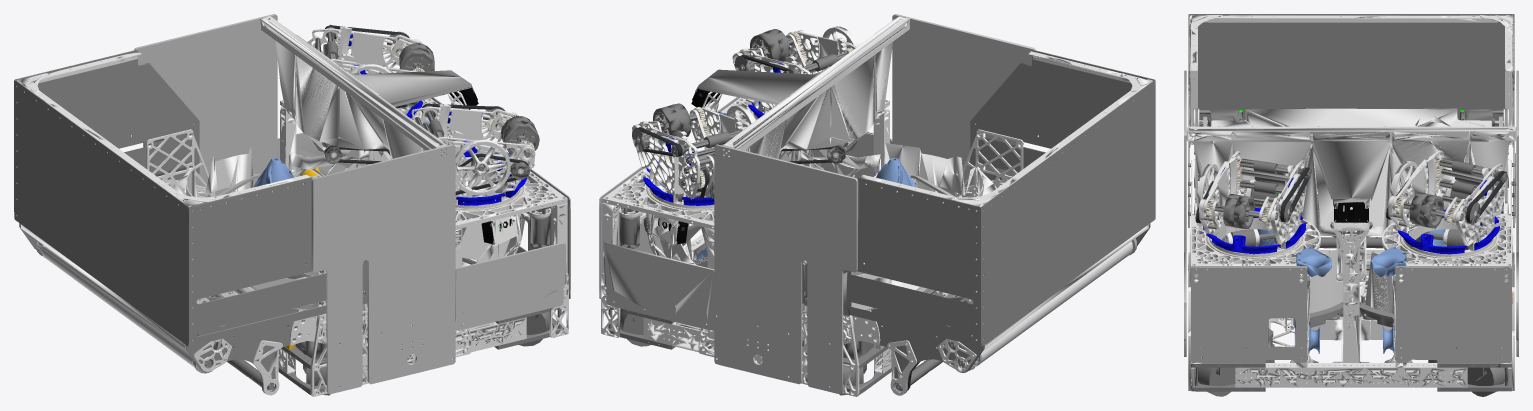
The model's file is mirage-1706.glb.
3 views of the same model, side by side, from view 1: azimuth 30°, elevation 25°; view 2: azimuth 150°, elevation 25°; view 3: azimuth 270°, elevation 25° (orthographic). The views are drawn at different scales.
Visible parts, largest first — view 1: frame, intake, turret-right, turret-left, intake-roller-0, flywheel-right, wheels-right, wheels-left, rotor-left; view 2: frame, intake, turret-left, turret-right, intake-roller-0, wheels-left, wheels-right, rotor-right; view 3: frame, intake, turret-left, turret-right, wheels-left, wheels-right, flywheel-right, flywheel-left.
Boxes of the visible parts, x1,y1,x2,y2 form: frame: (134,14,570,396); intake: (14,50,367,395); turret-right: (411,103,535,219); turret-left: (307,24,424,118); intake-roller-0: (41,246,194,367); flywheel-right: (455,139,510,195); wheels-right: (501,116,539,154); wheels-left: (399,43,434,71); rotor-left: (253,157,293,187); frame: (599,14,1035,396); intake: (802,50,1155,395); turret-left: (632,106,750,219); turret-right: (732,30,856,119); intake-roller-0: (980,241,1132,363); wheels-left: (653,103,691,139); wheels-right: (750,29,790,61); rotor-right: (876,158,916,187); frame: (1184,70,1518,396); intake: (1188,14,1514,248); turret-left: (1385,150,1507,263); turret-right: (1195,151,1311,263); wheels-left: (1409,192,1444,228); wheels-right: (1223,194,1254,228); flywheel-right: (1196,163,1218,208); flywheel-left: (1389,161,1417,197).
Size of the model in its own units: 0.9477 by 0.5509 by 0.7684.
